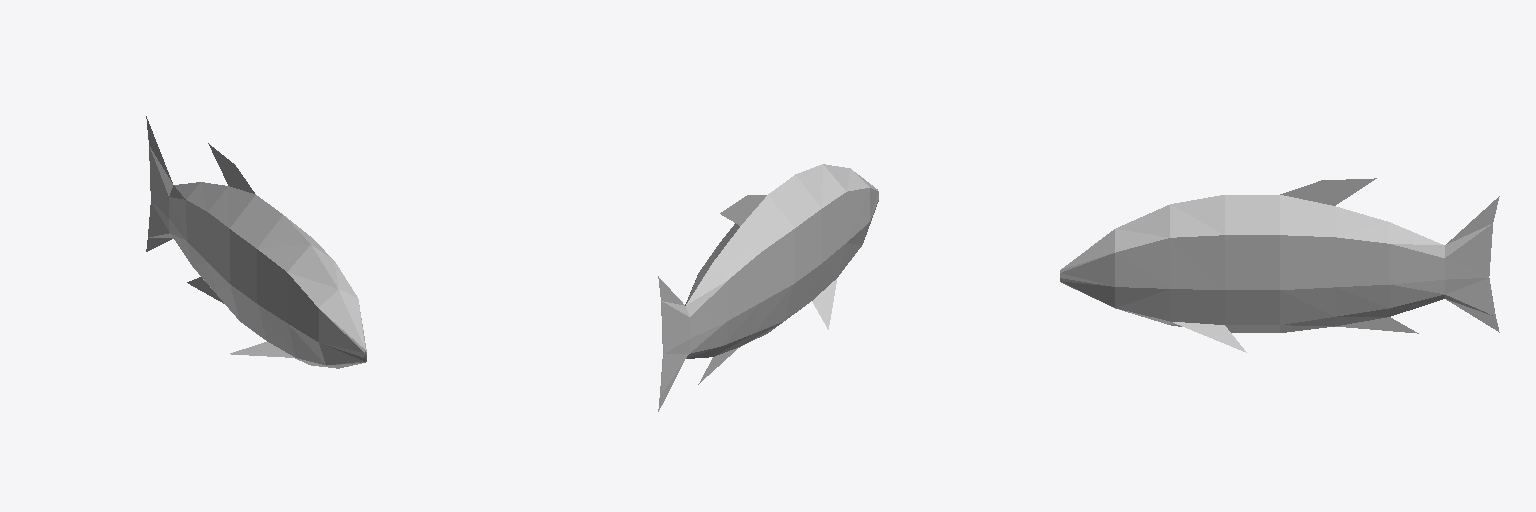
File: fish.obj
3 views of the same model, side by side, from view 1: azimuth 30°, elevation 25°; view 2: azimuth 150°, elevation 25°; view 3: azimuth 270°, elevation 25° (orthographic).
Visible parts, largest first — view 1: Plane.012; view 2: Plane.012; view 3: Plane.012.
Part boxes in pixels (x1,y1,x2,y2): Plane.012: (146,116,366,368); Plane.012: (658,164,878,411); Plane.012: (1060,178,1499,352).
Bounding box in the file's own units: 0.4662 × 0.7802 × 2.